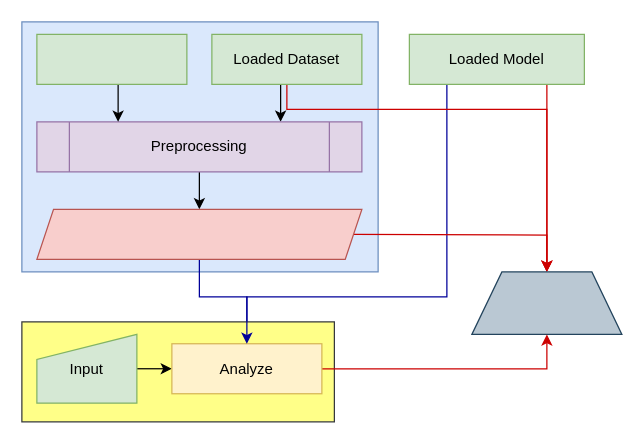
Image size: 644x444. Some labels were removed from this diagram. Here are the shapes that lost their labels. From the top down, the box of each, then its label:
(36, 33, 187, 84): Filters
(36, 208, 362, 259): Training
(471, 271, 622, 334): Display Information
